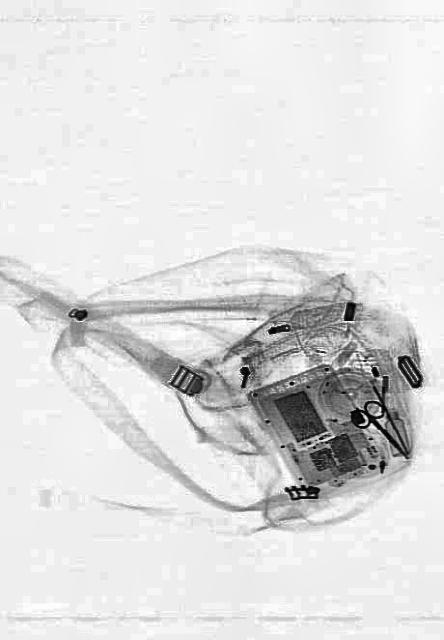Scissors: (348, 388, 416, 474)
